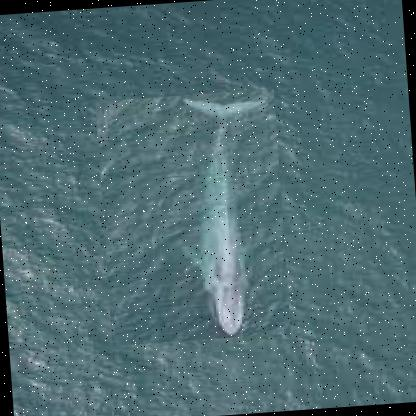blue_whale: (94, 87, 291, 345)
